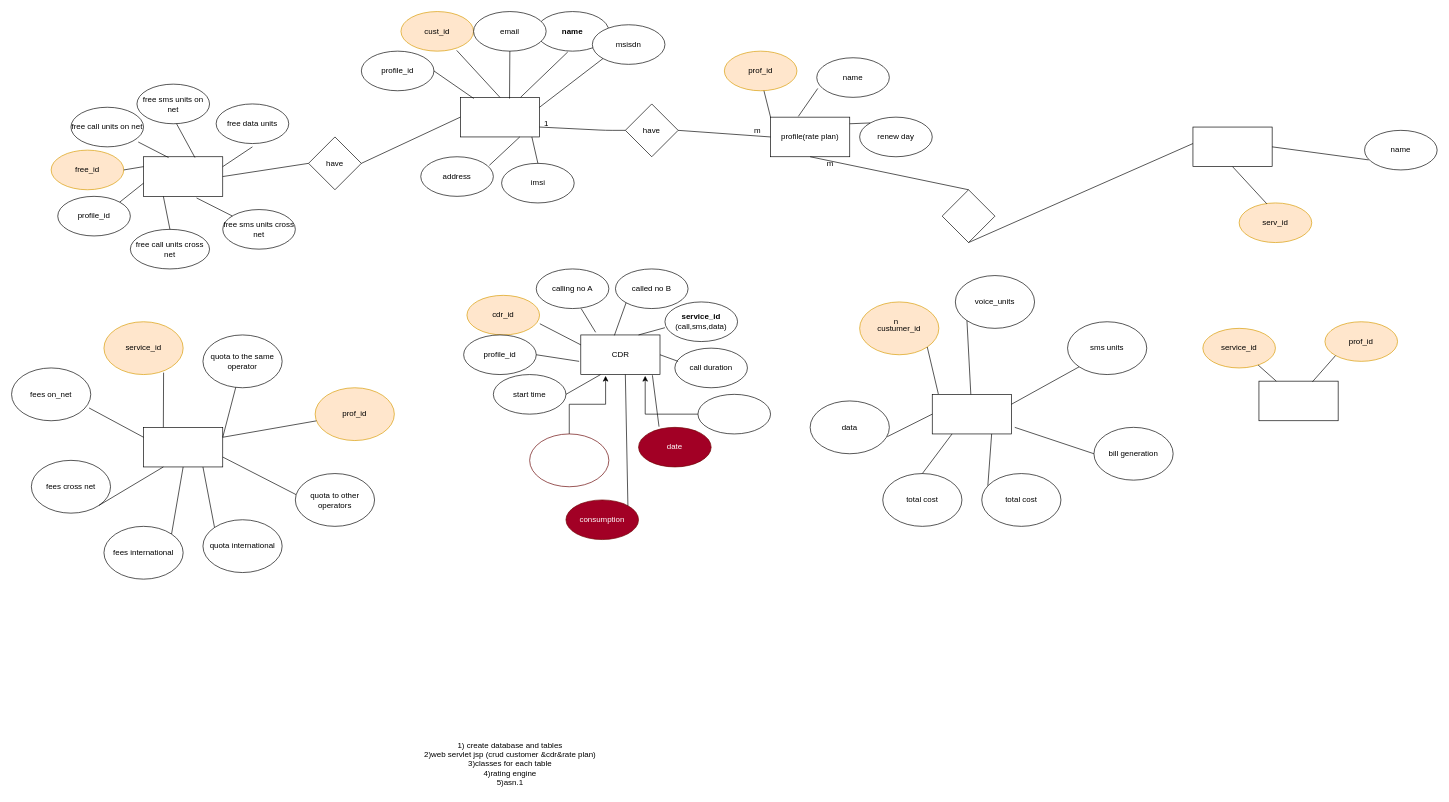
Some shapes in this 1449 by 802 pixel diagram are drawn without their labels. The centre of each missing label's shape, as x and y in pixels:
customer: the point at 500,117
external charge: the point at 734,414
free units: the point at 183,176
include: the point at 968,216
info service_id (for data for ex) (for sms for ex): the point at 569,460
invoice: the point at 971,414
prof_service: the point at 1298,400
rating: the point at 183,447
service: the point at 1232,146
